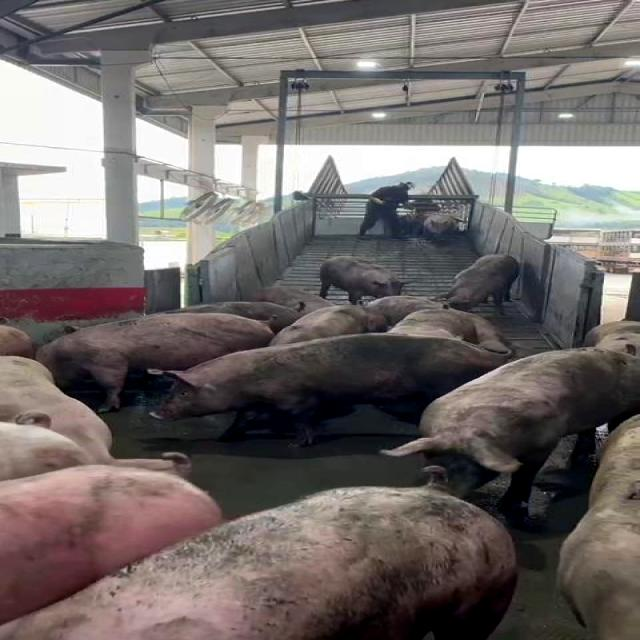pig: (0, 486, 518, 640), (385, 348, 639, 524), (151, 334, 506, 446), (0, 465, 222, 621), (37, 314, 275, 412), (559, 415, 640, 639), (0, 356, 117, 464), (0, 422, 94, 481), (387, 309, 511, 353), (442, 254, 520, 313), (270, 305, 385, 344), (158, 301, 302, 332), (319, 256, 406, 304), (364, 295, 449, 327), (422, 214, 461, 236)
